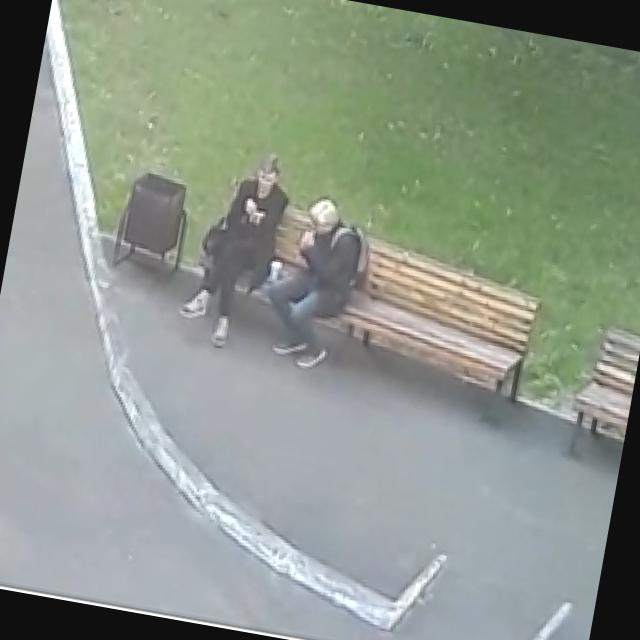person: (175, 146, 298, 356), (252, 189, 373, 375)
